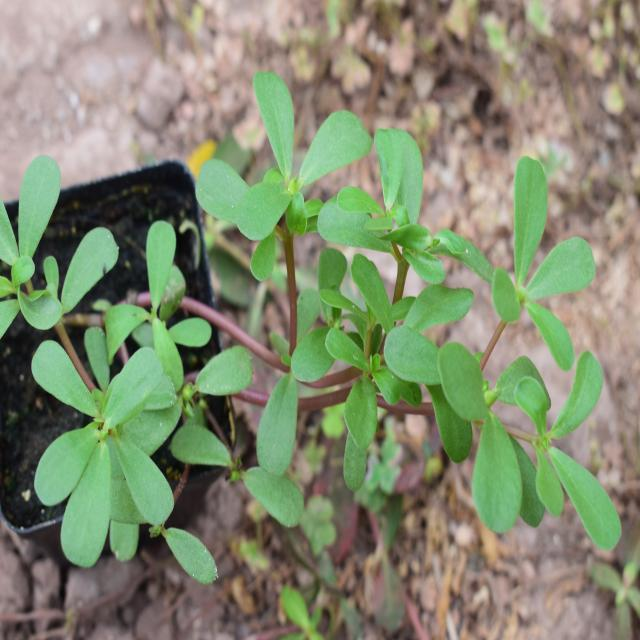purslane: (203, 86, 625, 562), (0, 146, 237, 596)
